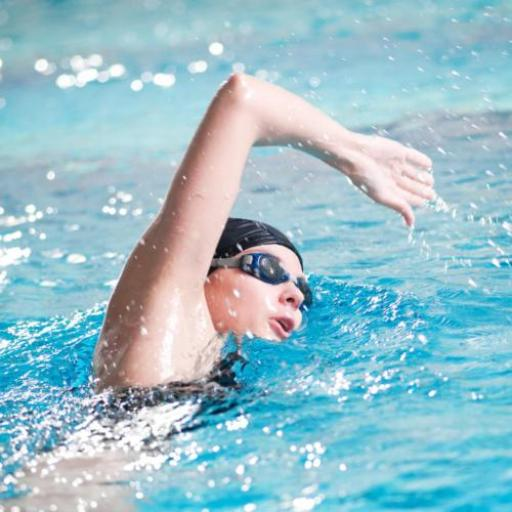swimming: (0, 70, 437, 511)
